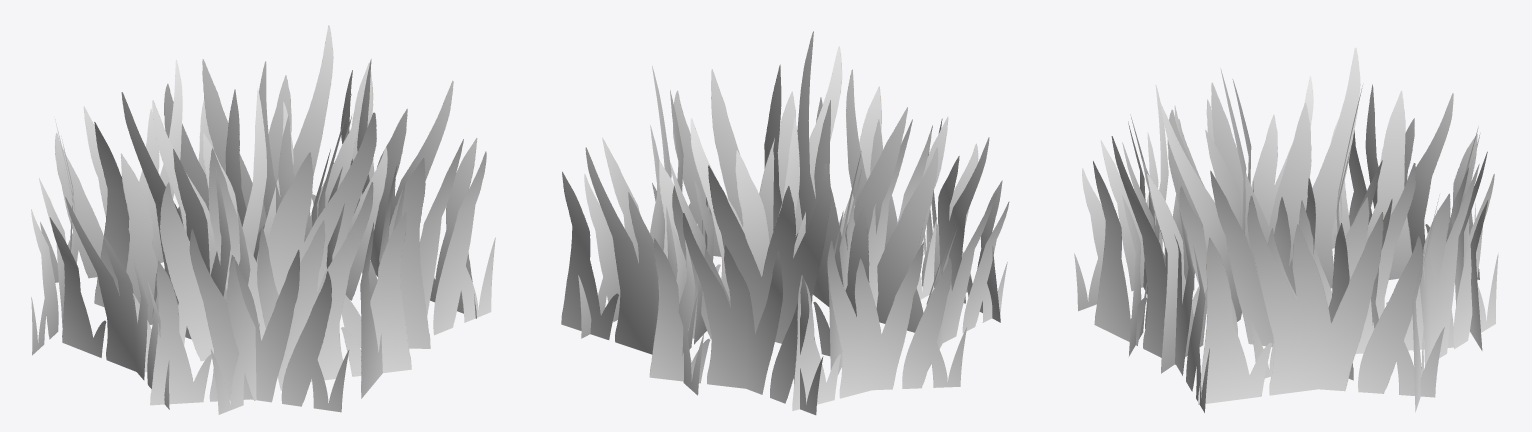
File: SM_Grass_1.fbx
3 renders of one model, left to right at view 1: azimuth 30°, elevation 25°; view 2: azimuth 150°, elevation 25°; view 3: azimuth 270°, elevation 25°, orthographic. The views are drawn at different scales.
Parts seen in each view (by area): view 1: SM_Grass_1; view 2: SM_Grass_1; view 3: SM_Grass_1.
Part boxes in pixels (x1,y1,x2,y2): SM_Grass_1: (31,25,495,414); SM_Grass_1: (561,31,1009,415); SM_Grass_1: (1074,47,1498,412).
Size of the model in its own units: 56.88 by 33.62 by 55.2.
